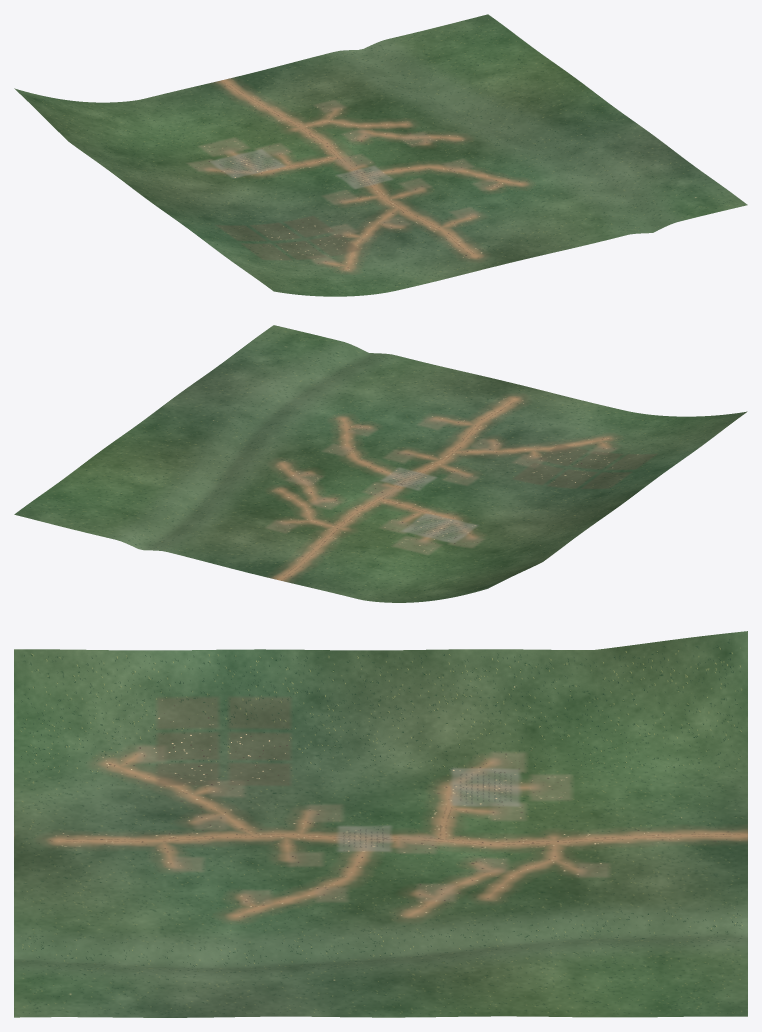
The model's file is HWA02_Terrain_Murim_Polished_S04.glb.
3 renders of one model, top to bottom at view 1: azimuth 30°, elevation 25°; view 2: azimuth 150°, elevation 25°; view 3: azimuth 270°, elevation 25°, orthographic. The views are drawn at different scales.
Visible parts, largest first — view 1: Terrain_InkGround; view 2: Terrain_InkGround; view 3: Terrain_InkGround.
Boxes of the visible parts, x1,y1,x2,y2 form: Terrain_InkGround: (14, 14, 747, 296); Terrain_InkGround: (14, 325, 747, 602); Terrain_InkGround: (14, 631, 747, 1017).
Bounding box in the file's own units: 236 × 22.62 × 224.
Materials: 1 (1 with a texture image).
